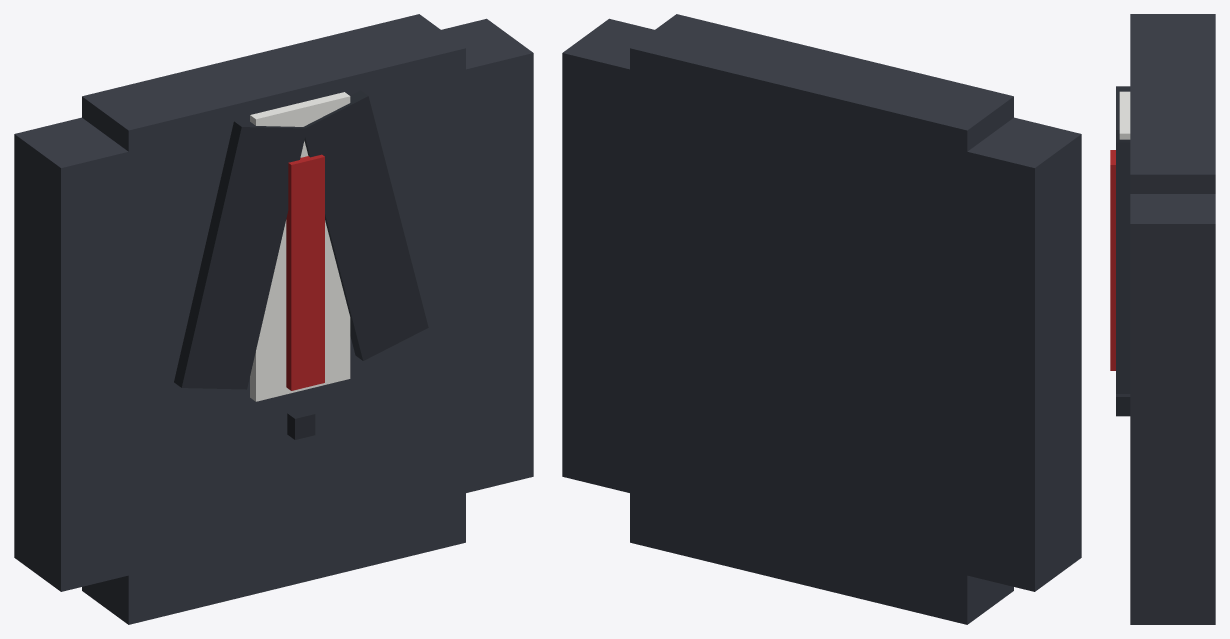
File: disguise_lawyer_jacket.glb
3 views of the same model, side by side, from view 1: azimuth 30°, elevation 25°; view 2: azimuth 150°, elevation 25°; view 3: azimuth 270°, elevation 25° (orthographic). The views are drawn at different scales.
Visible parts, largest first — view 1: back_suit_grey, sleeve_suit_grey, lapel_suit_lapel, tie_tie_red, shirt_shirt_white, button_suit_lapel; view 2: back_suit_grey, sleeve_suit_grey; view 3: sleeve_suit_grey, back_suit_grey, lapel_suit_lapel, tie_tie_red, shirt_shirt_white, button_suit_lapel.
Part boxes in pixels (x1,y1,x2,y2): back_suit_grey: (82, 14, 465, 624); sleeve_suit_grey: (14, 18, 533, 591); lapel_suit_lapel: (174, 90, 428, 389); tie_tie_red: (286, 154, 324, 390); shirt_shirt_white: (250, 92, 350, 401); button_suit_lapel: (287, 408, 315, 439); back_suit_grey: (630, 14, 1013, 624); sleeve_suit_grey: (562, 18, 1081, 591); sleeve_suit_grey: (1130, 14, 1215, 609); back_suit_grey: (1130, 24, 1215, 624); lapel_suit_lapel: (1116, 86, 1130, 393); tie_tie_red: (1110, 150, 1115, 370); shirt_shirt_white: (1119, 91, 1130, 139); button_suit_lapel: (1116, 394, 1130, 416).
Bounding box in the file's own units: 0.7 × 0.7 × 0.148.
